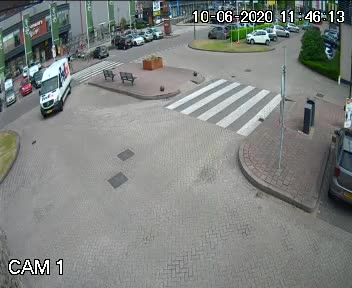car: (35, 57, 81, 122)
